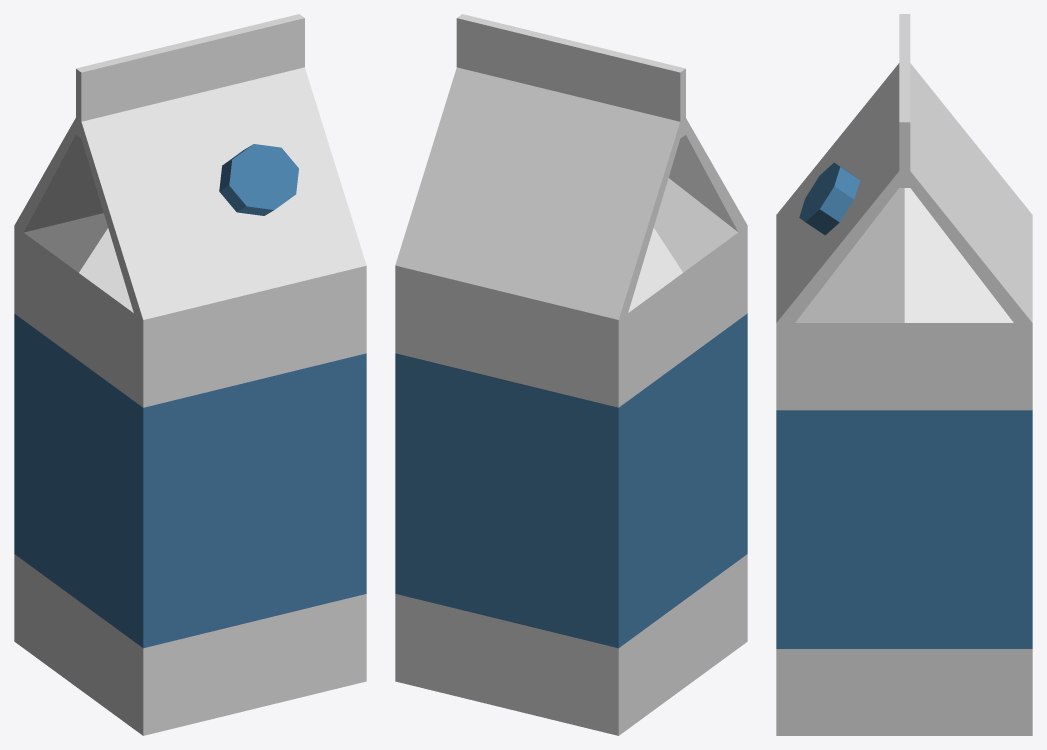
File: Ma_Milk.fbx
3 renders of one model, left to right at view 1: azimuth 30°, elevation 25°; view 2: azimuth 150°, elevation 25°; view 3: azimuth 270°, elevation 25°, orthographic.
Visible parts, largest first — view 1: Ma_Milk; view 2: Ma_Milk; view 3: Ma_Milk.
Part boxes in pixels (left/top/right/bottom): Ma_Milk: left=14, top=14, right=366, bottom=735; Ma_Milk: left=395, top=14, right=747, bottom=735; Ma_Milk: left=776, top=14, right=1032, bottom=735.
Size of the model in its own units: 88.74 by 88.74 by 235.
